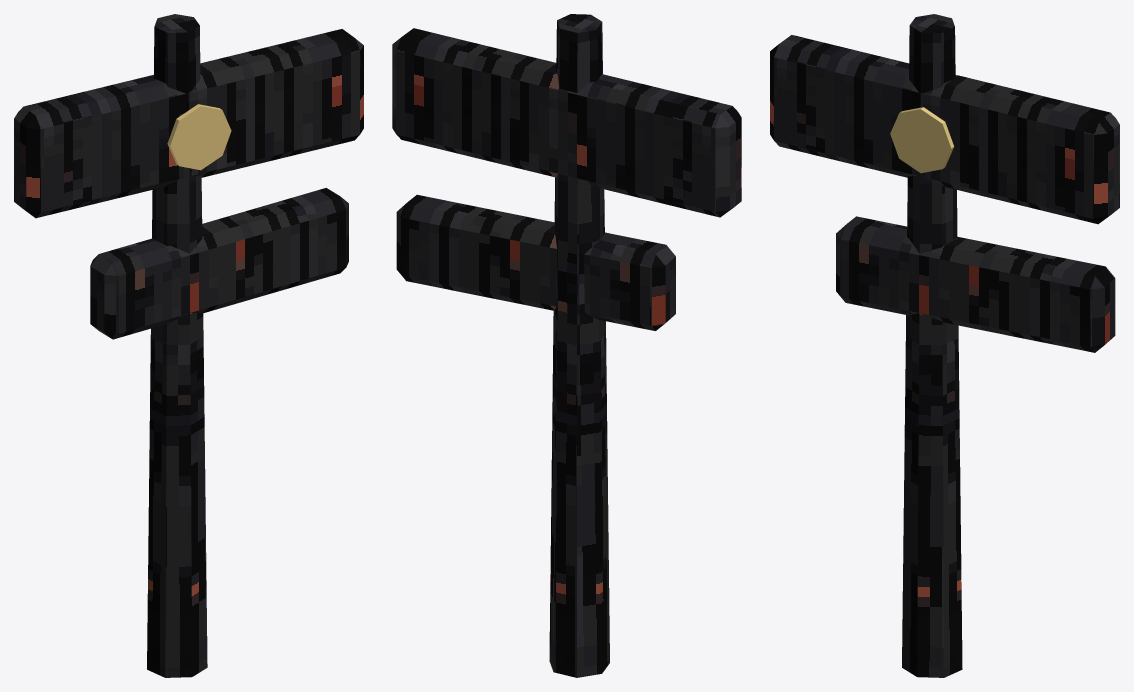
The model's file is enfeite_placa.fbx.
3 views of the same model, side by side, from view 1: azimuth 30°, elevation 25°; view 2: azimuth 150°, elevation 25°; view 3: azimuth 330°, elevation 25° (orthographic).
Parts seen in each view (by area): view 1: vulcao_enfeite_placa; view 2: vulcao_enfeite_placa; view 3: vulcao_enfeite_placa.
Boxes of the visible parts, x1=… form: vulcao_enfeite_placa: x1=14, y1=14, x2=363, y2=677; vulcao_enfeite_placa: x1=392, y1=14, x2=741, y2=677; vulcao_enfeite_placa: x1=770, y1=14, x2=1119, y2=677.
Bounding box in the file's own units: 55 × 100 × 9.9.
3 materials, 2 textured.
